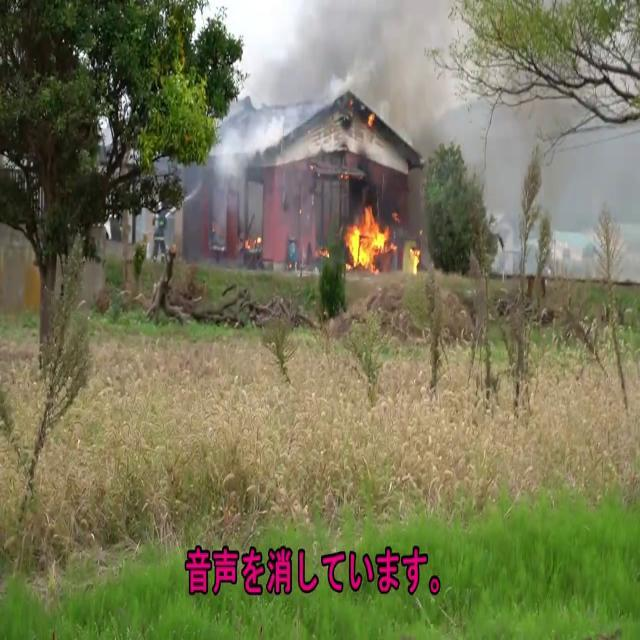Fire: (341, 197, 397, 271)
Smoke: (255, 0, 460, 145), (204, 86, 273, 246)
